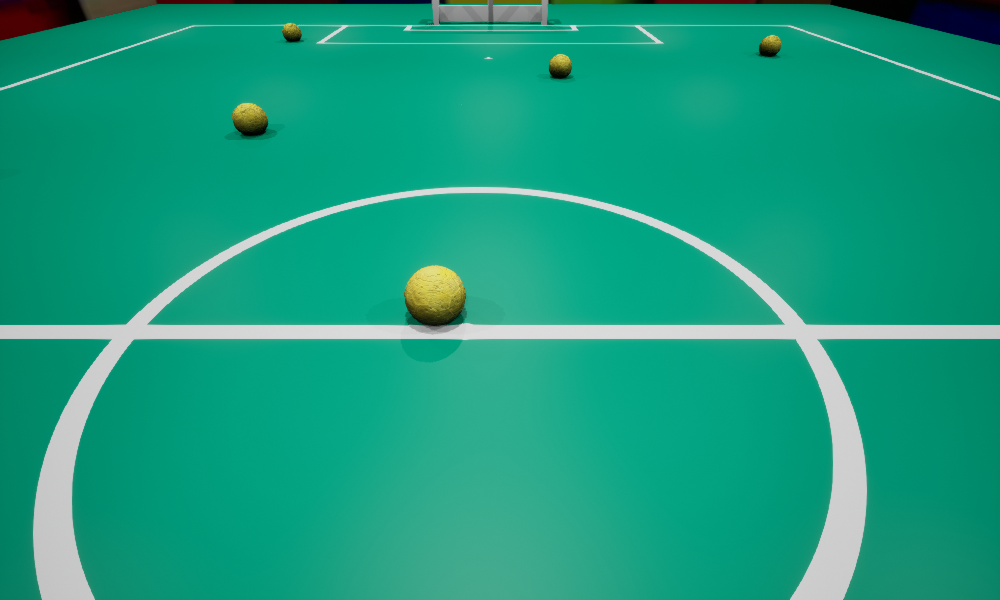b: (404, 265, 465, 325), (232, 103, 267, 135), (549, 54, 571, 77), (759, 35, 781, 55), (282, 23, 301, 41)
g: (432, 0, 547, 24)
